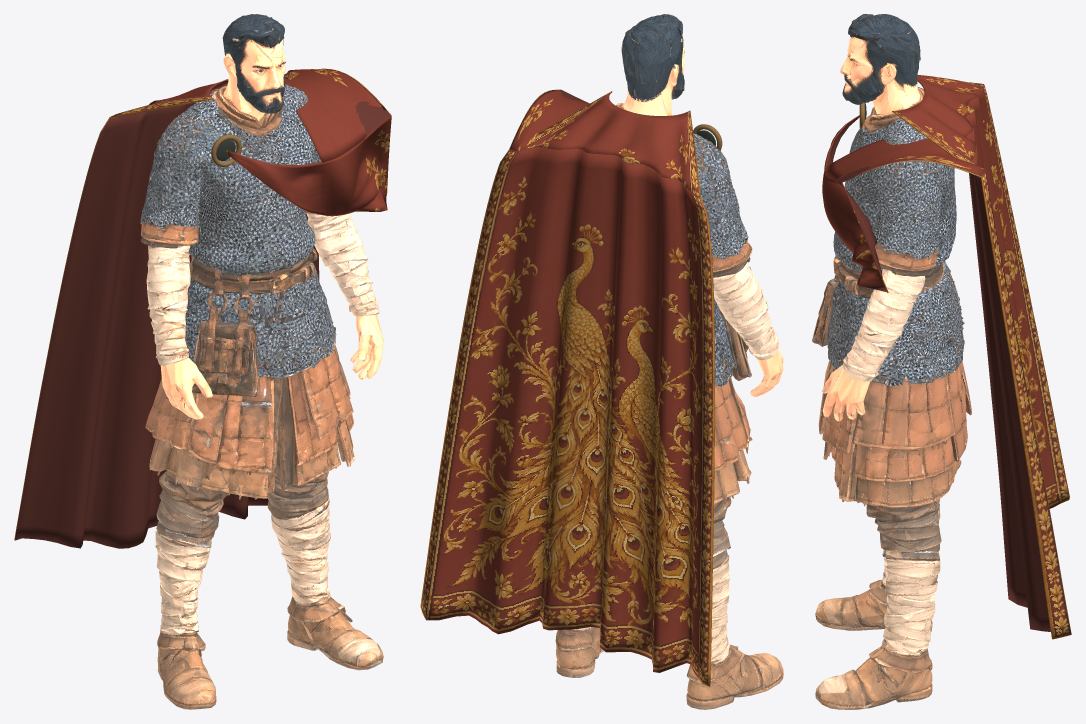
Rendered from control-mercenary.glb.
3 renders of one model, left to right at view 1: azimuth 30°, elevation 25°; view 2: azimuth 150°, elevation 25°; view 3: azimuth 270°, elevation 25°, orthographic.
Visible parts, largest first — view 1: control-mercenary runtime mesh; view 2: control-mercenary runtime mesh; view 3: control-mercenary runtime mesh.
Boxes of the visible parts, x1,y1,x2,y2 form: control-mercenary runtime mesh: [14, 14, 391, 709]; control-mercenary runtime mesh: [420, 14, 783, 709]; control-mercenary runtime mesh: [812, 14, 1071, 709].
Bounding box in the file's own units: 0.9693 × 2.03 × 0.7416.
5 materials, 2 textured.
